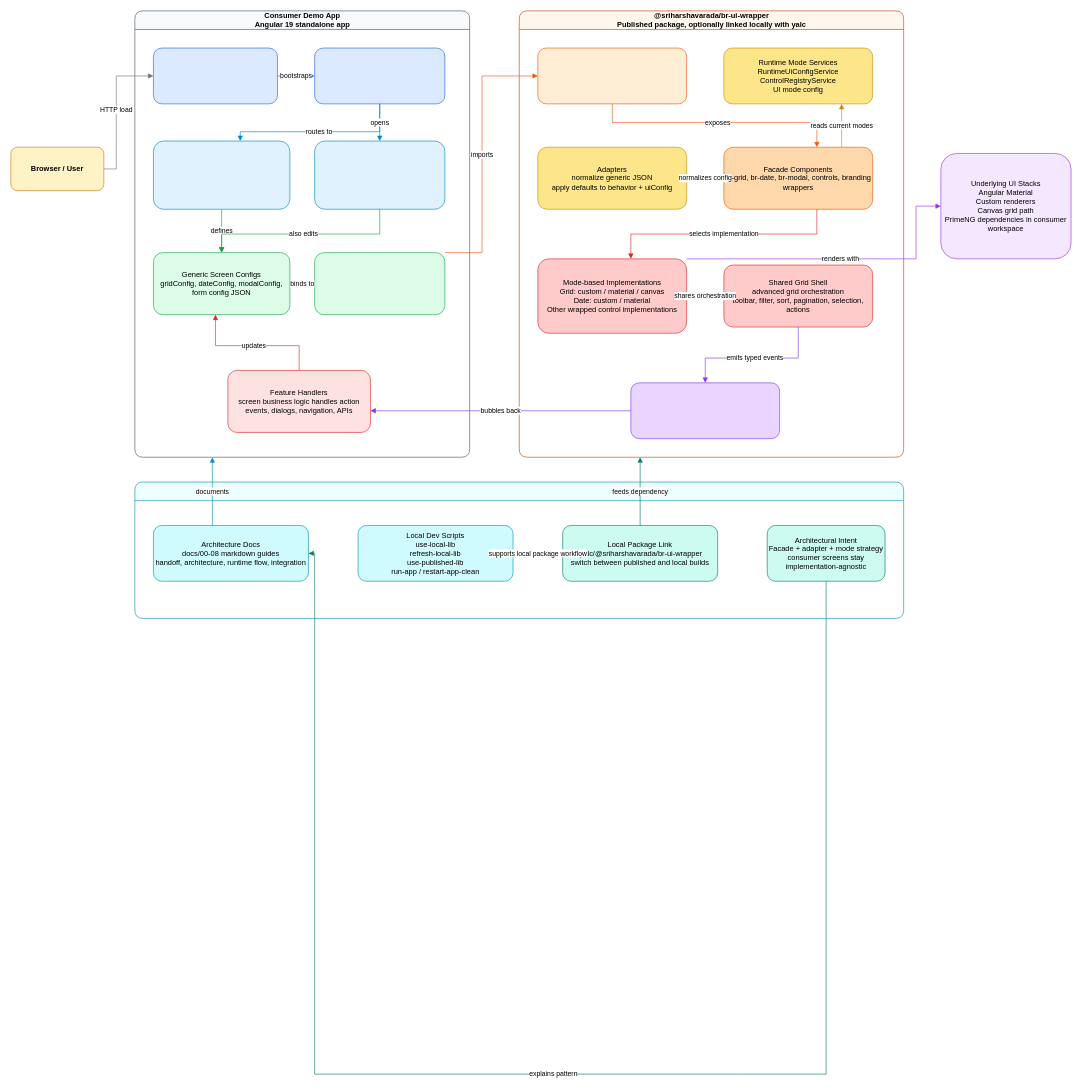
The diagram is 1082 pixels wide and 1090 high, and some of its shapes have lost their labels. The shapes that lost their labels are listed below. From the top down, each one's box as (x1, y1, x2, y2) in pixels, then its label:
(153, 47, 277, 104): Bootstrap & Providers src/main.ts app.config.ts
(314, 47, 445, 104): Root Shell + Router app.component.ts app.routes.ts
(537, 47, 687, 104): Public API facade components, config types, event types, services
(153, 140, 290, 209): Lazy-loaded Screens users, orders, add-user, add-order, modals, modes, docs
(314, 140, 445, 209): Developer Playground JSON workbench + code editor live config / event inspection
(314, 252, 445, 315): Wrapper Components Only br-grid, br-date, br-modal, form controls, branding
(630, 382, 780, 439): Standardized Outputs action events and value changes bubble back to consumer app
(134, 481, 904, 618): Docs & Dev Workflow
